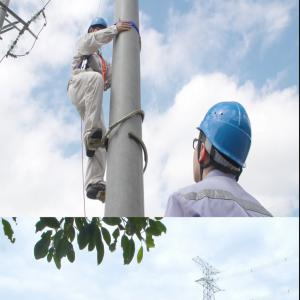blue: (188, 100, 255, 186), (87, 18, 111, 44)
